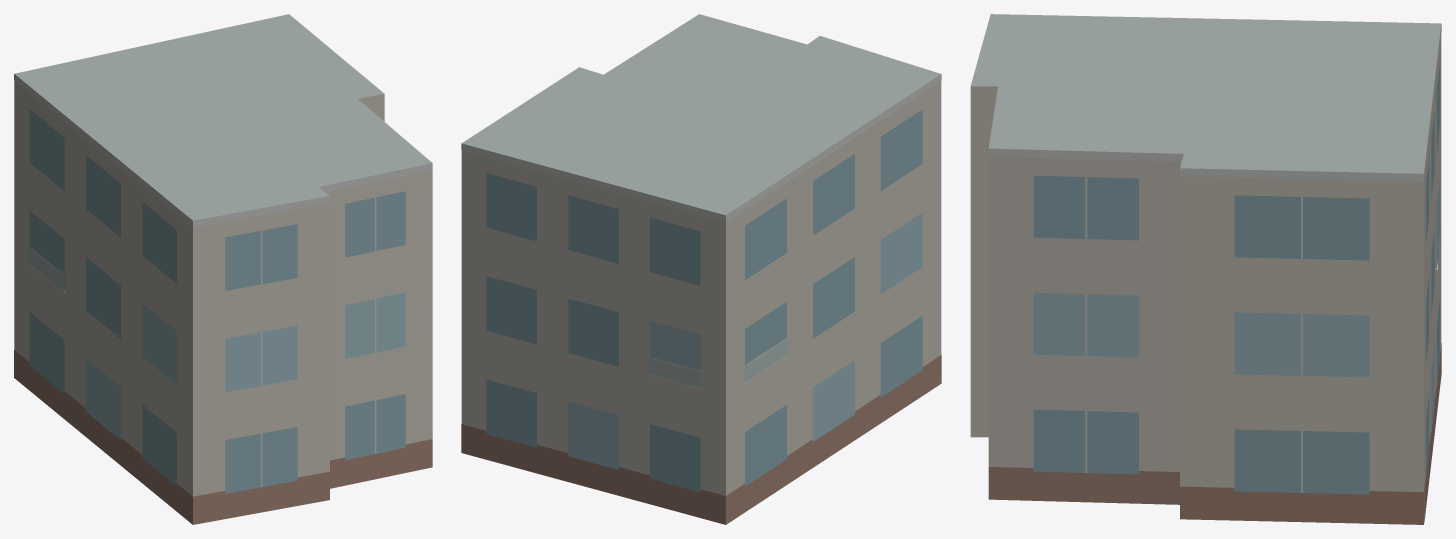
File: survey-upis-32675590.glb
3 renders of one model, left to right at view 1: azimuth 30°, elevation 25°; view 2: azimuth 150°, elevation 25°; view 3: azimuth 270°, elevation 25°, orthographic. The views are drawn at different scales.
Parts seen in each view (by area): view 1: survey-upis-32675590.tmp; view 2: survey-upis-32675590.tmp; view 3: survey-upis-32675590.tmp.
Part boxes in pixels (left/top/right/bottom): survey-upis-32675590.tmp: left=14, top=14, right=432, bottom=524; survey-upis-32675590.tmp: left=461, top=14, right=941, bottom=524; survey-upis-32675590.tmp: left=970, top=14, right=1441, bottom=524.
Size of the model in its own units: 10.36 by 10.6 by 12.9.
